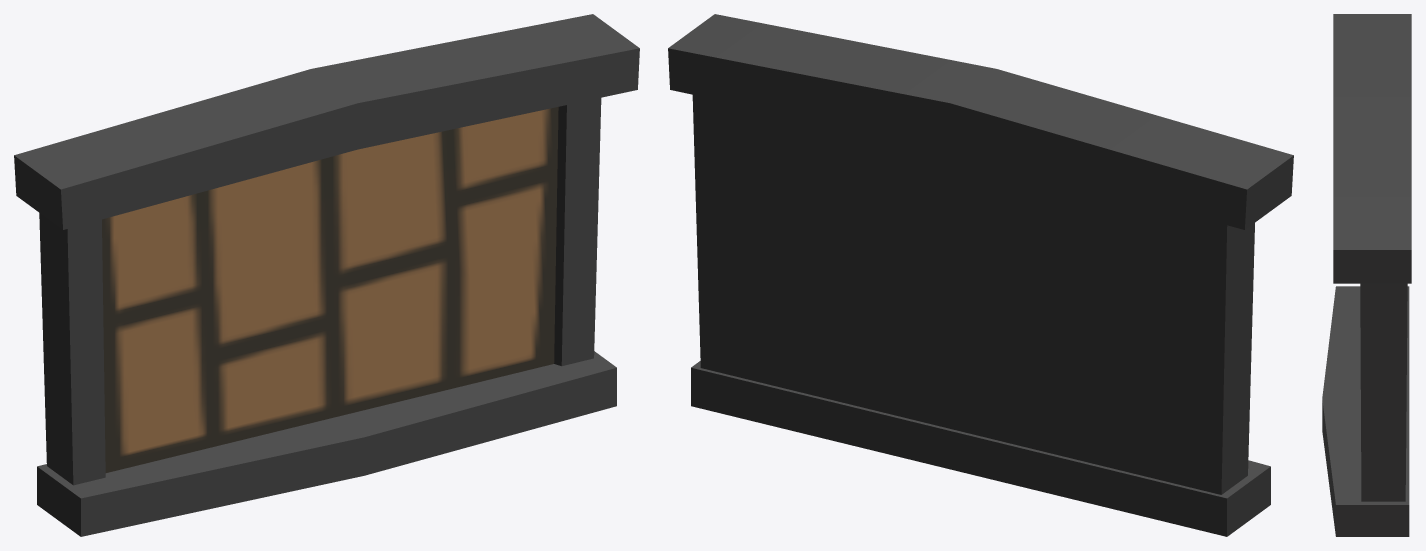
File: Window_D05.fbx
3 renders of one model, left to right at view 1: azimuth 30°, elevation 25°; view 2: azimuth 150°, elevation 25°; view 3: azimuth 270°, elevation 25°, orthographic. The views are drawn at different scales.
Visible parts, largest first — view 1: Window_D05; view 2: Window_D05; view 3: Window_D05.
Boxes of the visible parts, x1,y1,x2,y2 form: Window_D05: [14, 14, 639, 536]; Window_D05: [668, 14, 1293, 536]; Window_D05: [1322, 14, 1411, 536].
Bounding box in the file's own units: 321 × 195 × 51.42.
